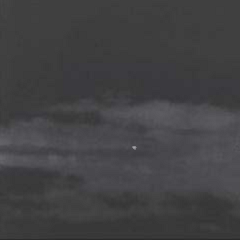Target: (131, 144, 137, 150)
